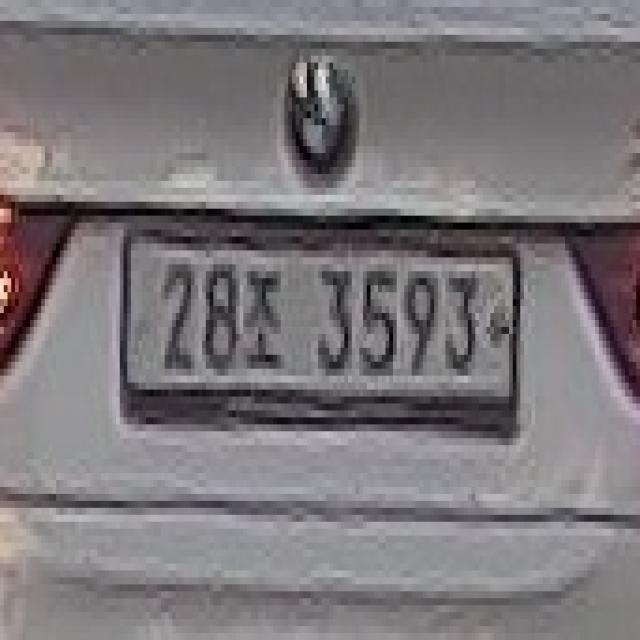plat: (117, 234, 522, 437)
